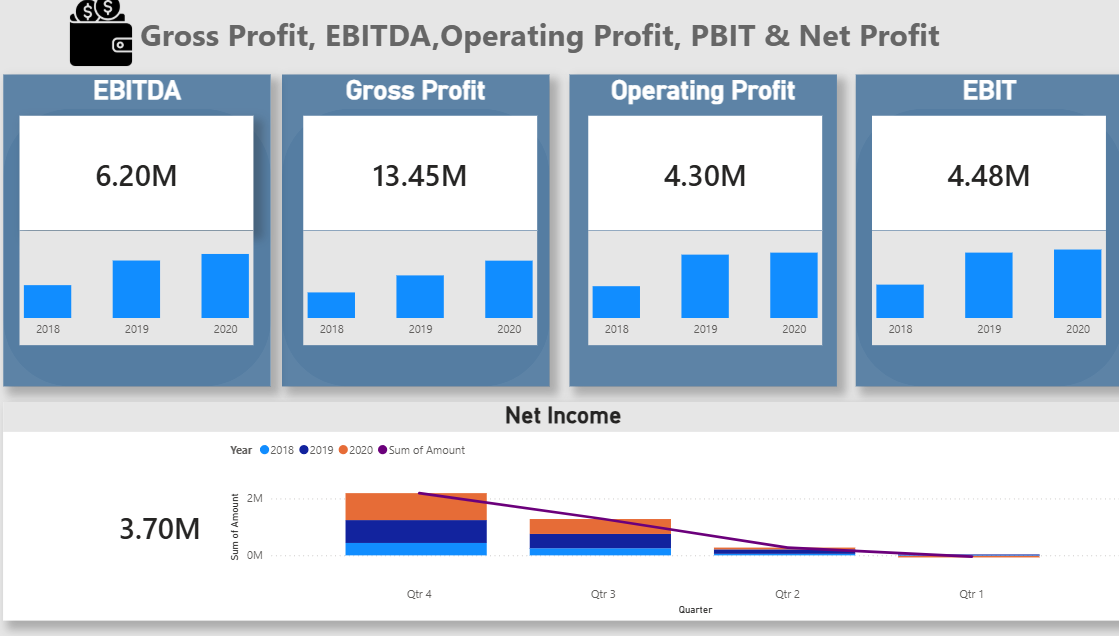

Layout of this report page (visuals, bound fields, positions):
{"tool":"powerbi","page":{"name":"Gp,EBTD,OP,PBIT,NT","canvas":[1280,720],"ordinal":3},"visuals":[{"type":"shape","box":[0,0,1280,90.7],"z":0},{"type":"shape","title":"Net Income","box":[50.4,450.2,1229.6,240.2],"z":0,"group":"g5"},{"type":"group","id":"g1","title":"Group 1","box":[50.4,90.7,294,342.7],"z":1000},{"type":"cardVisual","fields":{"Data":["GL.Net Profit"]},"box":[50.4,483.8,344.4,206.6],"z":1000,"group":"g5"},{"type":"group","id":"g2","title":"Group 1","box":[671.9,90.7,294,342.7],"z":2000},{"type":"lineStackedColumnComboChart","title":"ar","fields":{"Category":["Calendar.Quarter"],"Y":["Sum(GL.Amount)"],"Series":["Calendar.Year"],"Y2":["Sum(GL.Amount)"]},"box":[294,483.8,986,206.6],"z":2000,"group":"g5"},{"type":"group","id":"g3","title":"Group 1","box":[356.9,90.7,294,342.7],"z":3000},{"type":"group","id":"g4","title":"Group 1","box":[986,90.7,294,342.7],"z":4000},{"type":"group","id":"g5","title":"Group 2","box":[50.4,450.2,1229.6,240.2],"z":5000},{"type":"image","box":[105.8,0,104.1,84],"z":6000},{"type":"shape","title":"EBITDA","box":[50.4,90.7,294,342.7],"z":11500,"group":"g1"},{"type":"shape","title":"Gross Profit","box":[356.9,90.7,294,342.7],"z":11500,"group":"g3"},{"type":"shape","title":"Operating Profit","box":[671.9,90.7,294,342.7],"z":11500,"group":"g2"},{"type":"shape","title":"EBIT","box":[986,90.7,294,342.7],"z":11500,"group":"g4"},{"type":"cardVisual","fields":{"Data":["GL.EBITDA"]},"box":[68.9,136.1,257,126],"z":12000,"group":"g1"},{"type":"cardVisual","fields":{"Data":["GL.Gross Profit"]},"box":[380.7,136.1,257,126],"z":12000,"group":"g3"},{"type":"cardVisual","fields":{"Data":["GL.Operating profit 2"]},"box":[692.6,136.1,257,126],"z":12000,"group":"g2"},{"type":"cardVisual","fields":{"Data":["GL.EBIT"]},"box":[1004.5,136.1,257,126],"z":12000,"group":"g4"},{"type":"lineStackedColumnComboChart","fields":{"Category":["Calendar.Date.Variation.Date Hierarchy.Year","Calendar.Date.Variation.Date Hierarchy.Quarter","Calendar.Date.Variation.Date Hierarchy.Month","Calendar.Date.Variation.Date Hierarchy.Day"],"Y":["GL.EBITDA"]},"box":[68.9,262,257,126],"z":13000,"group":"g1"},{"type":"lineStackedColumnComboChart","fields":{"Category":["Calendar.Date.Variation.Date Hierarchy.Year","Calendar.Date.Variation.Date Hierarchy.Quarter","Calendar.Date.Variation.Date Hierarchy.Month","Calendar.Date.Variation.Date Hierarchy.Day"],"Y":["GL.Gross Profit"]},"box":[380.7,262,257,126],"z":13000,"group":"g3"},{"type":"lineStackedColumnComboChart","fields":{"Category":["Calendar.Date.Variation.Date Hierarchy.Year","Calendar.Date.Variation.Date Hierarchy.Quarter","Calendar.Date.Variation.Date Hierarchy.Month","Calendar.Date.Variation.Date Hierarchy.Day"],"Y":["GL.Operating profit 2"]},"box":[692.6,262,257,126],"z":13000,"group":"g2"},{"type":"lineStackedColumnComboChart","fields":{"Category":["Calendar.Date.Variation.Date Hierarchy.Year","Calendar.Date.Variation.Date Hierarchy.Quarter","Calendar.Date.Variation.Date Hierarchy.Month","Calendar.Date.Variation.Date Hierarchy.Day"],"Y":["GL.EBIT"]},"box":[1004.5,262,257,126],"z":13000,"group":"g4"}]}

Visuals, with their boxes in screenshot pixels (x1, y1, x2, y2), scaled from the page's 1280x720 canvas onto the 1119x636 screenshot:
shape: detection(0, 0, 1118, 80)
"Net Income" shape: detection(44, 398, 1118, 610)
"Group 1" group: detection(44, 80, 301, 383)
cardVisual - GL.Net Profit: detection(44, 427, 345, 610)
"Group 1" group: detection(587, 80, 844, 383)
"ar" lineStackedColumnComboChart: detection(257, 427, 1118, 610)
"Group 1" group: detection(312, 80, 569, 383)
"Group 1" group: detection(862, 80, 1118, 383)
"Group 2" group: detection(44, 398, 1118, 610)
image: detection(92, 0, 183, 74)
"EBITDA" shape: detection(44, 80, 301, 383)
"Gross Profit" shape: detection(312, 80, 569, 383)
"Operating Profit" shape: detection(587, 80, 844, 383)
"EBIT" shape: detection(862, 80, 1118, 383)
cardVisual - GL.EBITDA: detection(60, 120, 285, 232)
cardVisual - GL.Gross Profit: detection(333, 120, 557, 232)
cardVisual - GL.Operating profit 2: detection(605, 120, 830, 232)
cardVisual - GL.EBIT: detection(878, 120, 1103, 232)
lineStackedColumnComboChart - Calendar.Date.Variation.Date Hierarchy.Year x Calendar.Date.Variation.Date Hierarchy.Quarter: detection(60, 231, 285, 343)
lineStackedColumnComboChart - Calendar.Date.Variation.Date Hierarchy.Year x Calendar.Date.Variation.Date Hierarchy.Quarter: detection(333, 231, 557, 343)
lineStackedColumnComboChart - Calendar.Date.Variation.Date Hierarchy.Year x Calendar.Date.Variation.Date Hierarchy.Quarter: detection(605, 231, 830, 343)
lineStackedColumnComboChart - Calendar.Date.Variation.Date Hierarchy.Year x Calendar.Date.Variation.Date Hierarchy.Quarter: detection(878, 231, 1103, 343)
